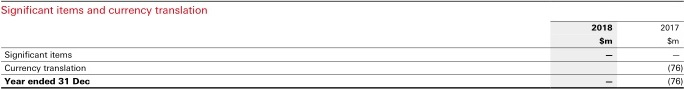column: (2, 3, 206, 89), (660, 2, 682, 89), (592, 2, 613, 89)
row: (1, 64, 683, 74), (1, 6, 684, 15), (1, 50, 684, 59), (2, 37, 684, 45), (5, 24, 683, 32), (1, 78, 684, 85)
